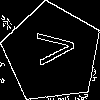V: (27, 28, 76, 68)
